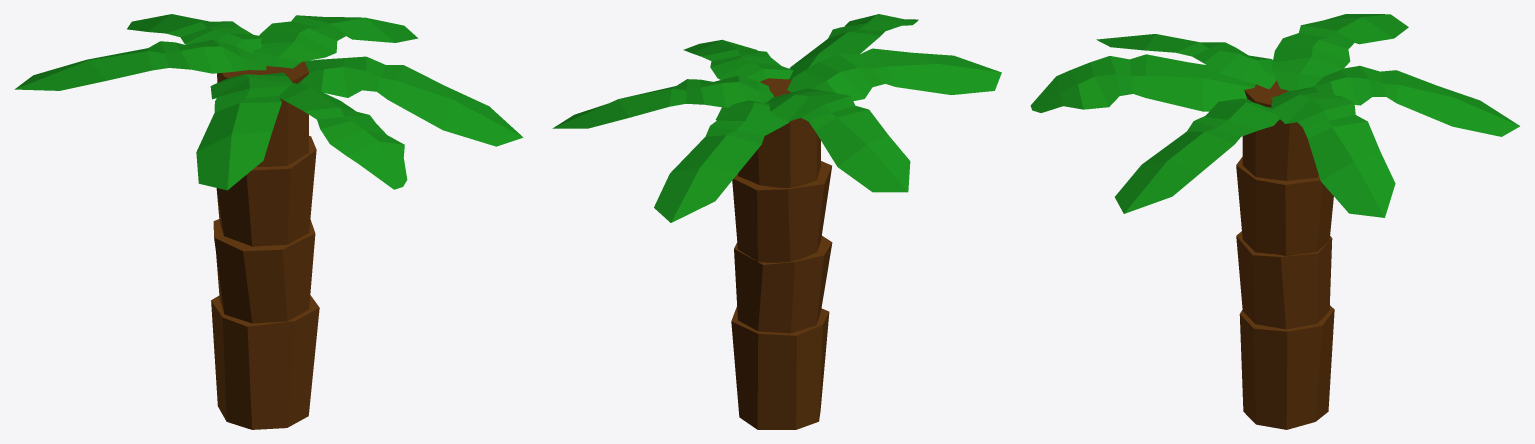
Rendered from Palmeira.glb.
3 views of the same model, side by side, from view 1: azimuth 30°, elevation 25°; view 2: azimuth 150°, elevation 25°; view 3: azimuth 270°, elevation 25° (orthographic). The views are drawn at different scales.
Visible parts, largest first — view 1: Palmeira; view 2: Palmeira; view 3: Palmeira.
Boxes of the visible parts, bbox=[...] form: Palmeira: bbox=[14, 14, 523, 429]; Palmeira: bbox=[552, 14, 1001, 429]; Palmeira: bbox=[1030, 14, 1519, 429].
Bounding box in the file's own units: 9.67 × 8.72 × 11.29.
